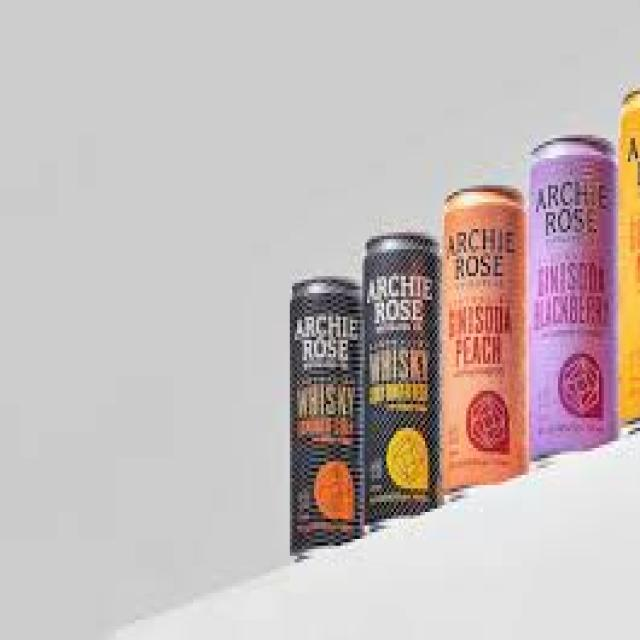Cans: (520, 134, 618, 454), (430, 178, 529, 492), (280, 270, 367, 559), (360, 229, 439, 519)
